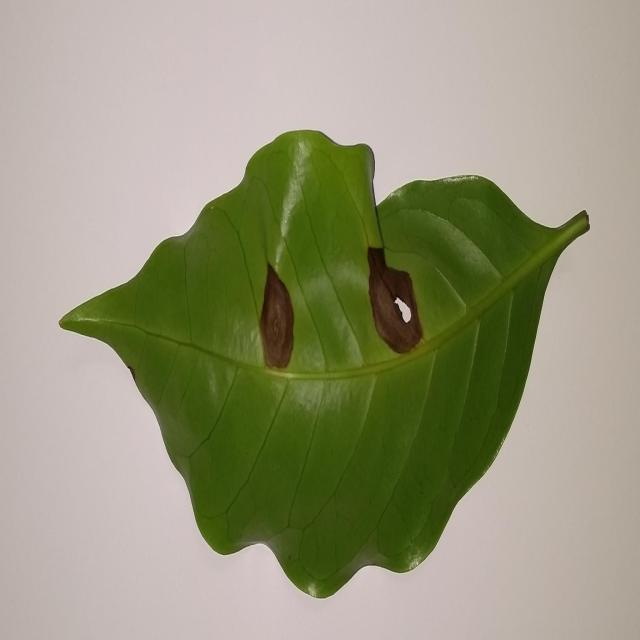phoma: (367, 246, 424, 355), (259, 262, 294, 372)
